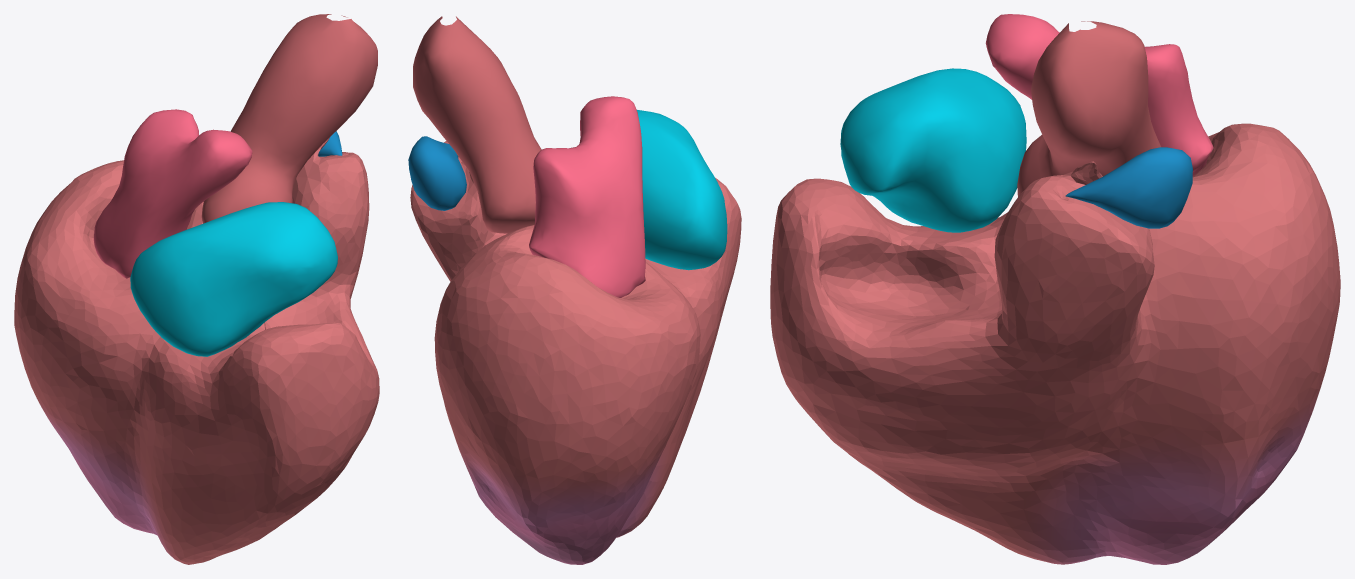
File: frame_69.glb
3 views of the same model, side by side, from view 1: azimuth 30°, elevation 25°; view 2: azimuth 150°, elevation 25°; view 3: azimuth 270°, elevation 25° (orthographic). The views are drawn at different scales.
Parts seen in each view (by area): view 1: Renderer Node; view 2: Renderer Node; view 3: Renderer Node.
Boxes of the visible parts, <box> form: Renderer Node: <box>14,14,379,564</box>; Renderer Node: <box>408,16,741,564</box>; Renderer Node: <box>770,14,1340,564</box>.
Bounding box in the file's own units: 101 × 159 × 128.
